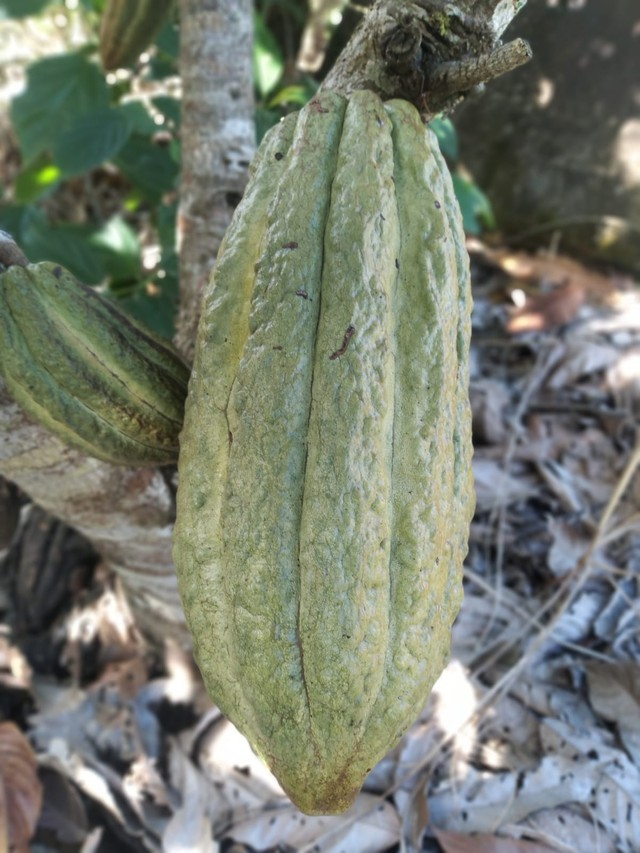Health: (149, 78, 500, 824)
